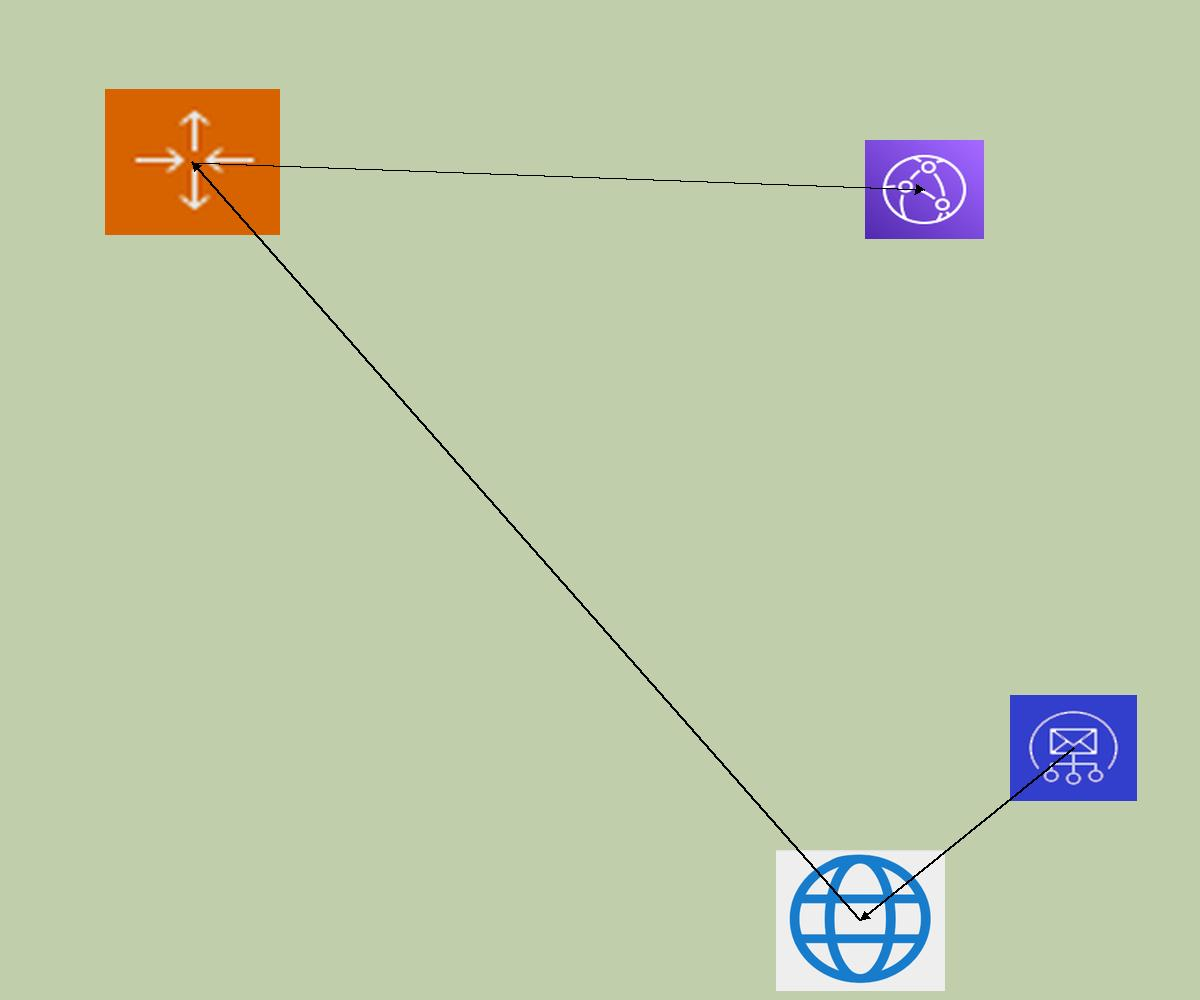AWS-CloudFront: (865, 140, 984, 239)
AWS-Scaling-group: (105, 89, 280, 235)
AWS-Simple-Email-Service: (1010, 695, 1137, 801)
Azure_http: (776, 850, 945, 991)
